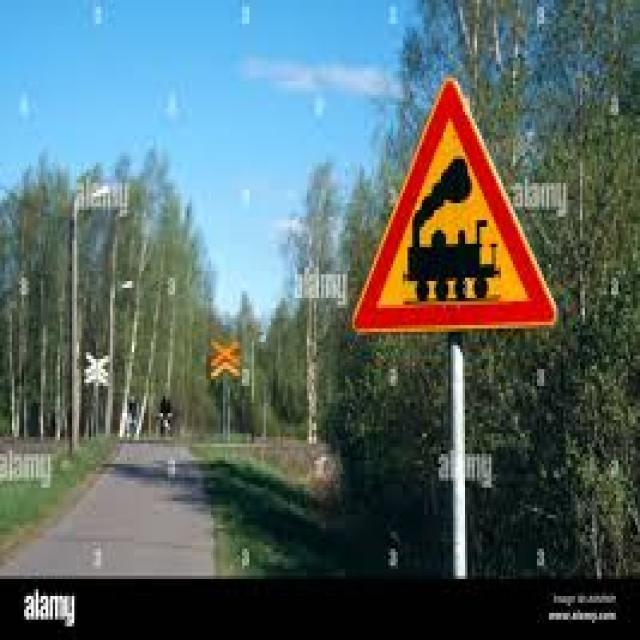unguarded level crossing: (349, 79, 561, 331)
